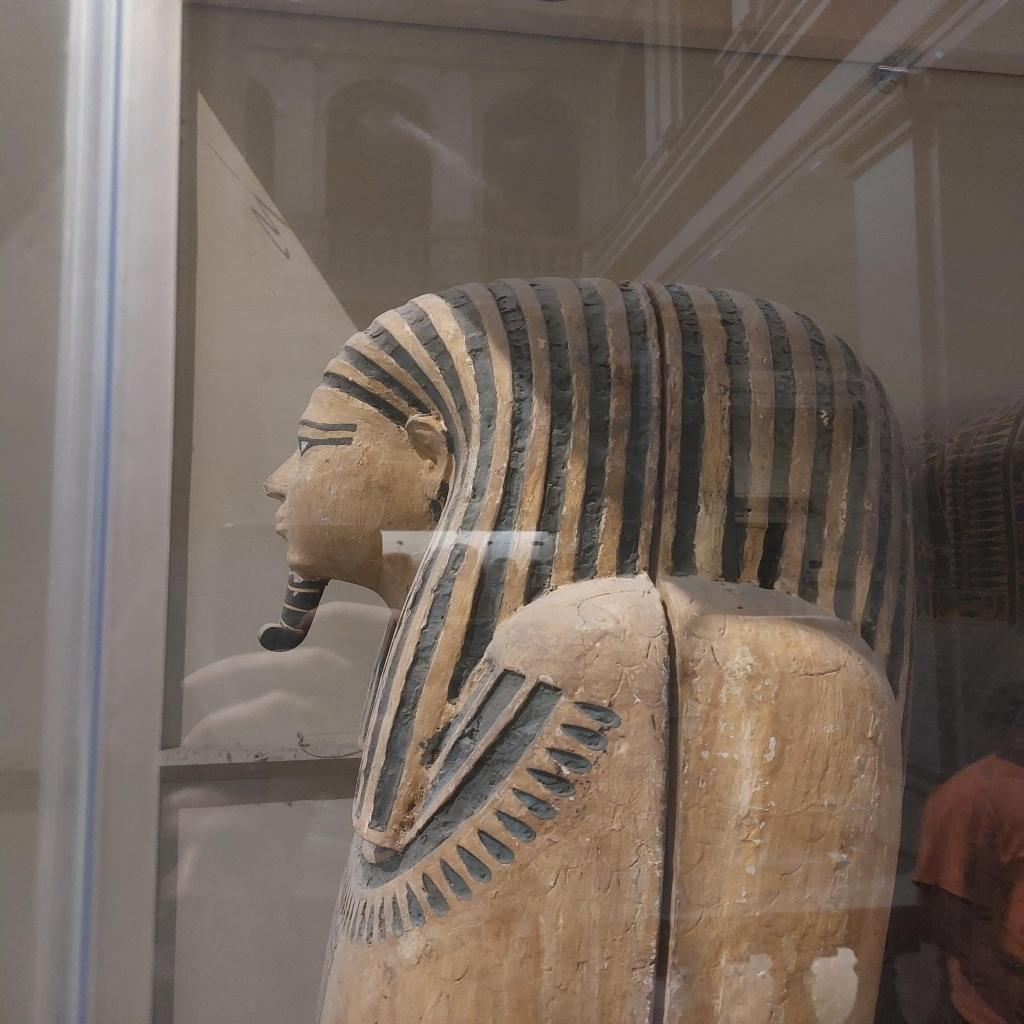Coffin of Ahmose I: (257, 273, 918, 1021)
